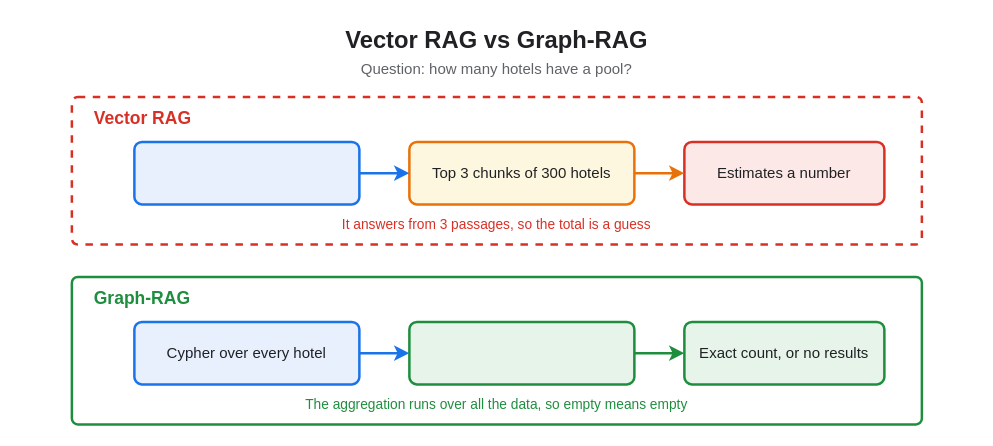
Image size: 993x446. Some labels were removed from this diagram. Here are the shapes that lost their labels. From the top down, the centre of each, then its label:
At (x=246, y=172): "Cosine search over chunks".
At (x=521, y=352): "count(h) in the database".
